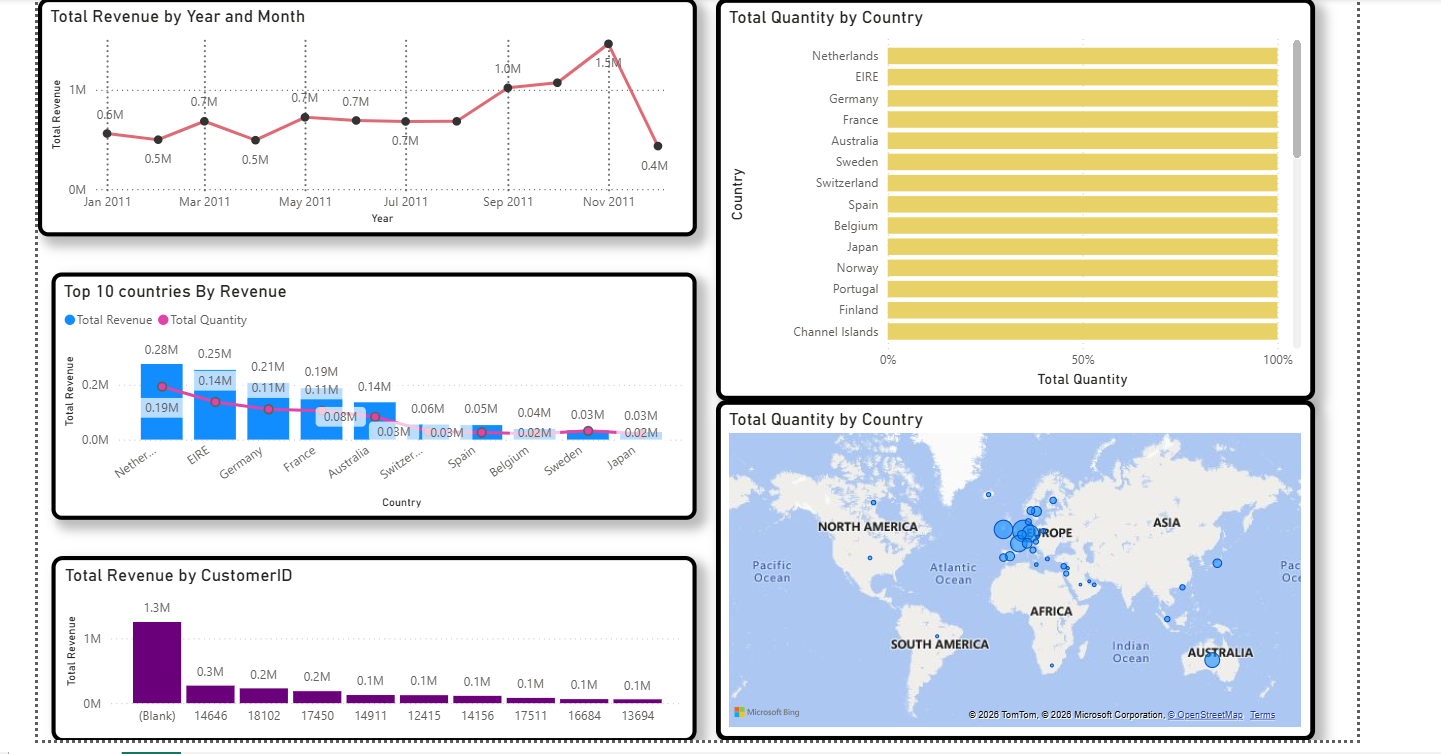

This screenshot's page, from the dashboard's own definition file:
{"tool":"powerbi","page":{"name":"Page 1","canvas":[1280,720],"ordinal":0},"visuals":[{"type":"lineChart","fields":{"Category":["Online Retail.InvoiceDate.Variation.Date Hierarchy.Year","Online Retail.InvoiceDate.Variation.Date Hierarchy.Month"],"Y":["Online Retail.Total1Revenue"]},"box":[0,0,639.6,231.5],"z":0},{"type":"lineClusteredColumnComboChart","title":"Top 10 countries By Revenue","fields":{"Category":["Online Retail.Country"],"Y":["Online Retail.Total Revenue"],"Y2":["Online Retail.Total Quantity"]},"box":[13.1,266.4,625.9,240.2],"z":1000},{"type":"clusteredColumnChart","fields":{"Category":["Online Retail.CustomerID"],"Y":["Online Retail.Total Revenue"]},"box":[13.1,541.5,625.9,180.5],"z":2000},{"type":"hundredPercentStackedBarChart","fields":{"Category":["Online Retail.Country"],"Y":["Online Retail.Total Quantity"]},"box":[658.4,0,581.2,390.6],"z":3000},{"type":"map","fields":{"Category":["Online Retail.Country"],"Size":["Online Retail.Total Quantity"]},"box":[658.4,390.6,581.2,330.8],"z":3001}]}

Visuals, with their boxes in screenshot pixels (x1, y1, x2, y2):
lineChart - Online Retail.InvoiceDate.Variation.Date Hierarchy.Year x Online Retail.InvoiceDate.Variation.Date Hierarchy.Month: bbox=[34, 0, 695, 232]
"Top 10 countries By Revenue" lineClusteredColumnComboChart: bbox=[47, 268, 694, 516]
clusteredColumnChart - Online Retail.CustomerID x Online Retail.Total Revenue: bbox=[47, 552, 694, 738]
hundredPercentStackedBarChart - Online Retail.Country x Online Retail.Total Quantity: bbox=[714, 0, 1314, 396]
map - Online Retail.Country x Online Retail.Total Quantity: bbox=[714, 396, 1314, 738]
